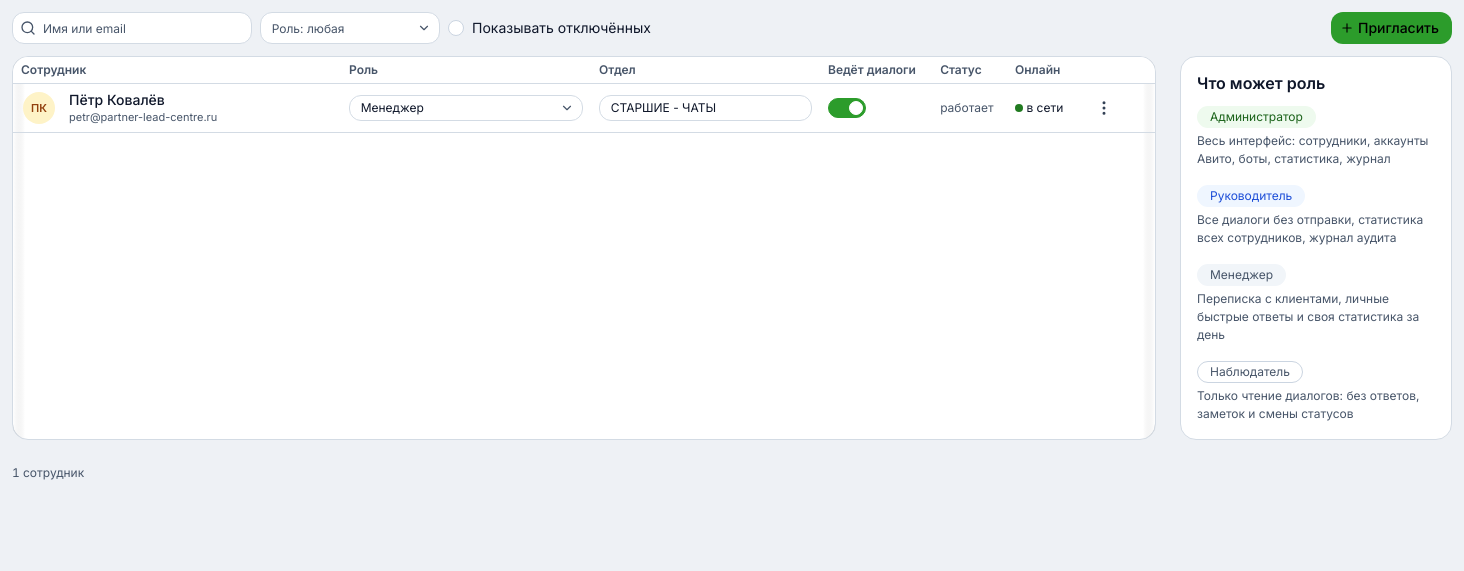
Test: Команда — сохранение видно, ошибка названа честно › не сохранился отдел — ячейка возвращается к серверному значению, а не врёт
The width and height of the screenshot is (1464, 571).
Expected: the table is shown, [13,57,1155,133]
Replace the text in the field named "Отдел: Пётр Ковалёв" with "ВЫЕЗД" at [706, 108], box [599,95,812,121]
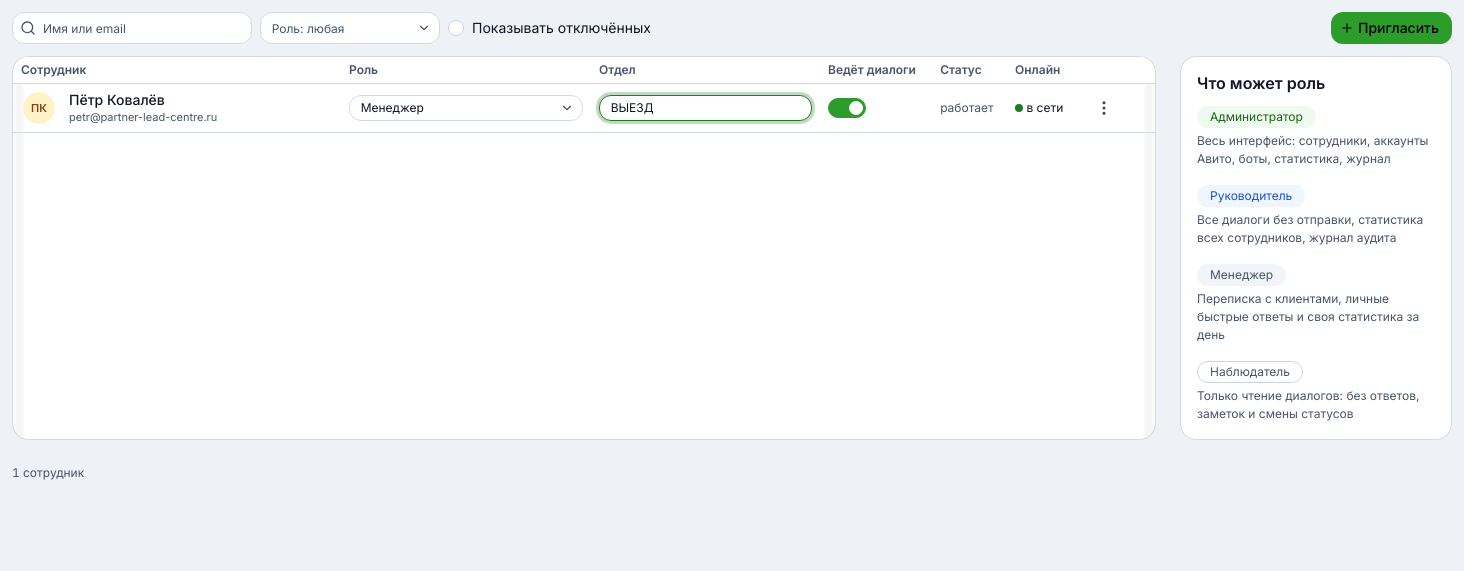
Press Tab
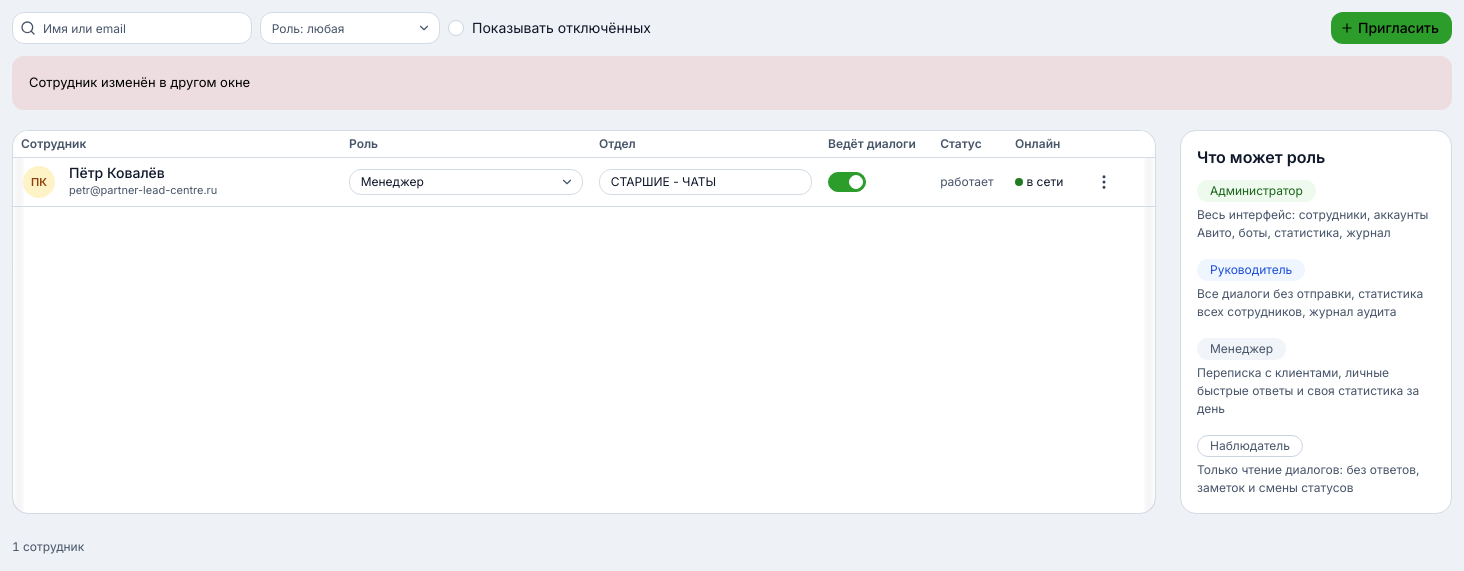
Expected: the text "Сотрудник изменён в другом окне" is shown, [29,74,250,90]
Expected: the field named "Отдел: Пётр Ковалёв" holds "СТАРШИЕ - ЧАТЫ", [599,168,812,194]
